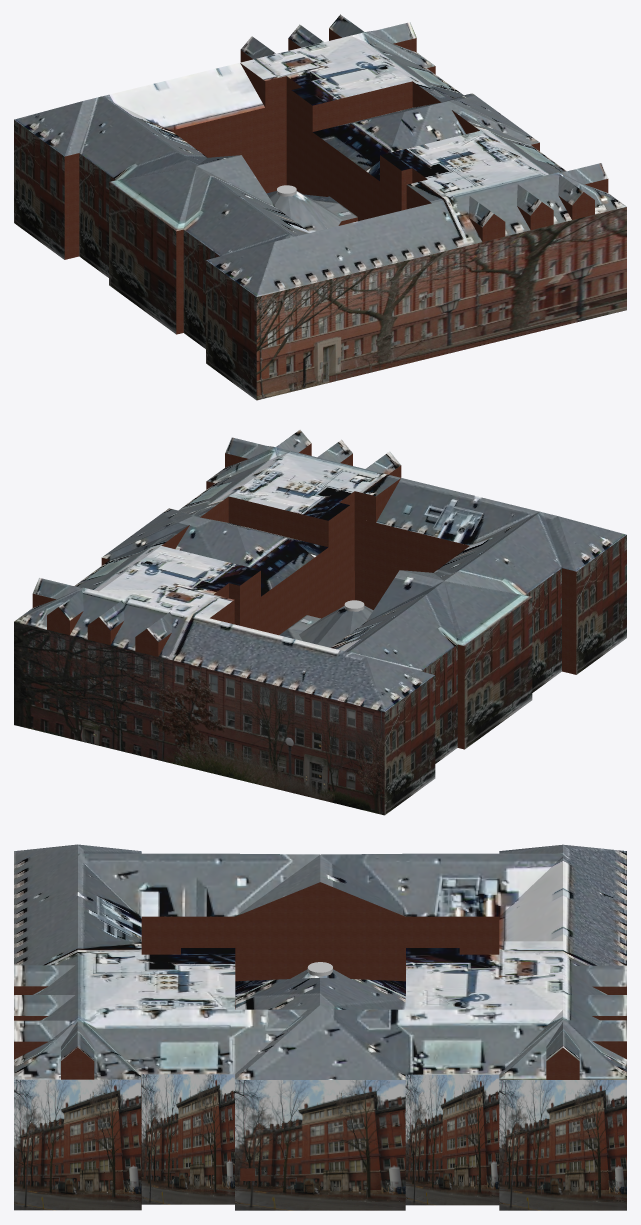
Rendered from TestNoyes.fbx.
The picture shows the model from 3 angles, top to bottom: view 1: azimuth 30°, elevation 25°; view 2: azimuth 150°, elevation 25°; view 3: azimuth 270°, elevation 25°; orthographic projection. The views are drawn at different scales.
Parts seen in each view (by area): view 1: _(Loose Entity); view 2: _(Loose Entity); view 3: _(Loose Entity).
Part boxes in pixels (x1,y1,x2,y2): _(Loose Entity): [14, 14, 626, 400]; _(Loose Entity): [14, 429, 626, 815]; _(Loose Entity): [14, 844, 626, 1210].
Bounding box in the file's own units: 6261 × 2167 × 7091.
